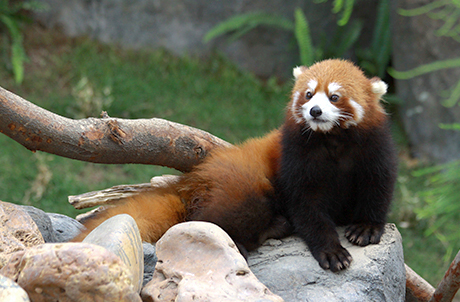red_panda: (89, 61, 408, 273)
